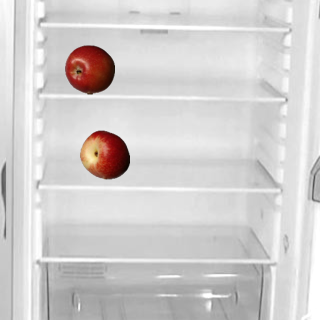Apple Braeburn: (64, 44, 114, 94)
Nectarine: (79, 129, 129, 179)
